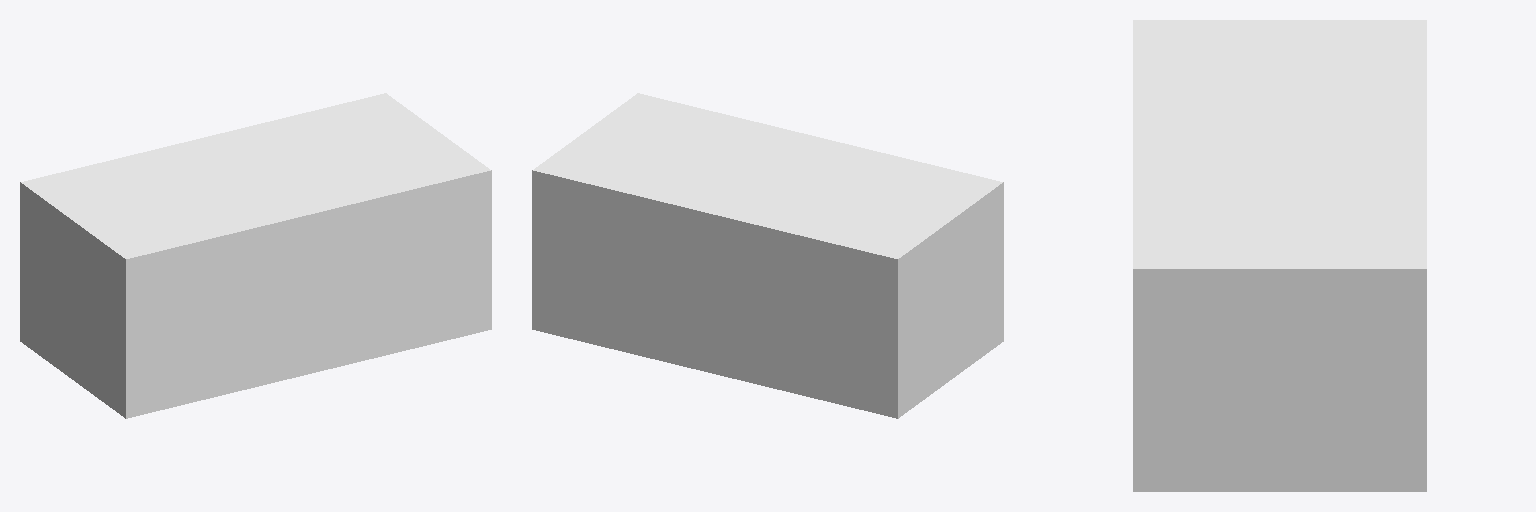
URDF robot description (panda):
<?xml version="1.0" encoding="utf-8"?>
<!-- =================================================================================== -->
<!-- |    This document was autogenerated by xacro from assembly_env.urdf.xacro        | -->
<!-- |    EDITING THIS FILE BY HAND IS NOT RECOMMENDED                                 | -->
<!-- =================================================================================== -->
<robot name="panda">
  <!-- box shaped table as base for the 2 Pandas -->
  <link name="base">
    <visual>
      <origin rpy="0 0 0" xyz="1.0 0 0.5"/>
      <geometry>
        <box size="2.4 1.2 1"/>
      </geometry>
      <material name="White">
        <color rgba="1.0 1.0 1.0 1.0"/>
      </material>
    </visual>
    <collision>
      <origin rpy="0 0 0" xyz="1.0 0 0.5"/>
      <geometry>
        <box size="2.4 1.2 1"/>
      </geometry>
    </collision>
  </link>
  <joint name="panda_left_joint_base" type="fixed">
    <parent link="base"/>
    <child link="panda_left_link0"/>
    <origin rpy="0 0 0" xyz="0 0.3 1"/>
  </joint>
  <link name="panda_left_link0">
    <visual>
      <geometry>
        <mesh filename="package://franka_description/meshes/visual/link0.dae"/>
      </geometry>
    </visual>
    <collision>
      <geometry>
        <mesh filename="package://franka_description/meshes/collision/link0.stl"/>
      </geometry>
    </collision>
  </link>
  <link name="panda_left_link1">
    <visual>
      <geometry>
        <mesh filename="package://franka_description/meshes/visual/link1.dae"/>
      </geometry>
    </visual>
    <collision>
      <geometry>
        <mesh filename="package://franka_description/meshes/collision/link1.stl"/>
      </geometry>
    </collision>
  </link>
  <joint name="panda_left_joint1" type="revolute">
    <safety_controller k_position="100.0" k_velocity="40.0" soft_lower_limit="-2.8973" soft_upper_limit="2.8973"/>
    <origin rpy="0 0 0" xyz="0 0 0.333"/>
    <parent link="panda_left_link0"/>
    <child link="panda_left_link1"/>
    <axis xyz="0 0 1"/>
    <limit effort="87" lower="-2.8973" upper="2.8973" velocity="2.1750"/>
  </joint>
  <link name="panda_left_link2">
    <visual>
      <geometry>
        <mesh filename="package://franka_description/meshes/visual/link2.dae"/>
      </geometry>
    </visual>
    <collision>
      <geometry>
        <mesh filename="package://franka_description/meshes/collision/link2.stl"/>
      </geometry>
    </collision>
  </link>
  <joint name="panda_left_joint2" type="revolute">
    <safety_controller k_position="100.0" k_velocity="40.0" soft_lower_limit="-1.7628" soft_upper_limit="1.7628"/>
    <origin rpy="-1.57079632679 0 0" xyz="0 0 0"/>
    <parent link="panda_left_link1"/>
    <child link="panda_left_link2"/>
    <axis xyz="0 0 1"/>
    <limit effort="87" lower="-1.7628" upper="1.7628" velocity="2.1750"/>
  </joint>
  <link name="panda_left_link3">
    <visual>
      <geometry>
        <mesh filename="package://franka_description/meshes/visual/link3.dae"/>
      </geometry>
    </visual>
    <collision>
      <geometry>
        <mesh filename="package://franka_description/meshes/collision/link3.stl"/>
      </geometry>
    </collision>
  </link>
  <joint name="panda_left_joint3" type="revolute">
    <safety_controller k_position="100.0" k_velocity="40.0" soft_lower_limit="-2.8973" soft_upper_limit="2.8973"/>
    <origin rpy="1.57079632679 0 0" xyz="0 -0.316 0"/>
    <parent link="panda_left_link2"/>
    <child link="panda_left_link3"/>
    <axis xyz="0 0 1"/>
    <limit effort="87" lower="-2.8973" upper="2.8973" velocity="2.1750"/>
  </joint>
  <link name="panda_left_link4">
    <visual>
      <geometry>
        <mesh filename="package://franka_description/meshes/visual/link4.dae"/>
      </geometry>
    </visual>
    <collision>
      <geometry>
        <mesh filename="package://franka_description/meshes/collision/link4.stl"/>
      </geometry>
    </collision>
  </link>
  <joint name="panda_left_joint4" type="revolute">
    <safety_controller k_position="100.0" k_velocity="40.0" soft_lower_limit="-3.0718" soft_upper_limit="-0.0698"/>
    <origin rpy="1.57079632679 0 0" xyz="0.0825 0 0"/>
    <parent link="panda_left_link3"/>
    <child link="panda_left_link4"/>
    <axis xyz="0 0 1"/>
    <limit effort="87" lower="-3.0718" upper="-0.0698" velocity="2.1750"/>
  </joint>
  <link name="panda_left_link5">
    <visual>
      <geometry>
        <mesh filename="package://franka_description/meshes/visual/link5.dae"/>
      </geometry>
    </visual>
    <collision>
      <geometry>
        <mesh filename="package://franka_description/meshes/collision/link5.stl"/>
      </geometry>
    </collision>
  </link>
  <joint name="panda_left_joint5" type="revolute">
    <safety_controller k_position="100.0" k_velocity="40.0" soft_lower_limit="-2.8973" soft_upper_limit="2.8973"/>
    <origin rpy="-1.57079632679 0 0" xyz="-0.0825 0.384 0"/>
    <parent link="panda_left_link4"/>
    <child link="panda_left_link5"/>
    <axis xyz="0 0 1"/>
    <limit effort="12" lower="-2.8973" upper="2.8973" velocity="2.6100"/>
  </joint>
  <link name="panda_left_link6">
    <visual>
      <geometry>
        <mesh filename="package://franka_description/meshes/visual/link6.dae"/>
      </geometry>
    </visual>
    <collision>
      <geometry>
        <mesh filename="package://franka_description/meshes/collision/link6.stl"/>
      </geometry>
    </collision>
  </link>
  <joint name="panda_left_joint6" type="revolute">
    <safety_controller k_position="100.0" k_velocity="40.0" soft_lower_limit="-0.0175" soft_upper_limit="3.7525"/>
    <origin rpy="1.57079632679 0 0" xyz="0 0 0"/>
    <parent link="panda_left_link5"/>
    <child link="panda_left_link6"/>
    <axis xyz="0 0 1"/>
    <limit effort="12" lower="-0.0175" upper="3.7525" velocity="2.6100"/>
  </joint>
  <link name="panda_left_link7">
    <visual>
      <geometry>
        <mesh filename="package://franka_description/meshes/visual/link7.dae"/>
      </geometry>
    </visual>
    <collision>
      <geometry>
        <mesh filename="package://franka_description/meshes/collision/link7.stl"/>
      </geometry>
    </collision>
  </link>
  <joint name="panda_left_joint7" type="revolute">
    <safety_controller k_position="100.0" k_velocity="40.0" soft_lower_limit="-2.8973" soft_upper_limit="2.8973"/>
    <origin rpy="1.57079632679 0 0" xyz="0.088 0 0"/>
    <parent link="panda_left_link6"/>
    <child link="panda_left_link7"/>
    <axis xyz="0 0 1"/>
    <limit effort="12" lower="-2.8973" upper="2.8973" velocity="2.6100"/>
  </joint>
  <link name="panda_left_link8"/>
  <joint name="panda_left_joint8" type="fixed">
    <origin rpy="0 0 0" xyz="0 0 0.107"/>
    <parent link="panda_left_link7"/>
    <child link="panda_left_link8"/>
    <axis xyz="0 0 0"/>
  </joint>
  <joint name="panda_left_hand_joint" type="fixed">
    <parent link="panda_left_link8"/>
    <child link="panda_left_hand"/>
    <origin rpy="0 0 -0.785398163397" xyz="0 0 0"/>
  </joint>
  <link name="panda_left_hand">
    <visual>
      <geometry>
        <mesh filename="package://franka_description/meshes/visual/hand.dae"/>
      </geometry>
    </visual>
    <collision>
      <geometry>
        <mesh filename="package://franka_description/meshes/collision/hand.stl"/>
      </geometry>
    </collision>
  </link>
  <link name="panda_left_leftfinger">
    <visual>
      <geometry>
        <mesh filename="package://franka_description/meshes/visual/finger.dae"/>
      </geometry>
    </visual>
    <collision>
      <geometry>
        <mesh filename="package://franka_description/meshes/collision/finger.stl"/>
      </geometry>
    </collision>
  </link>
  <link name="panda_left_rightfinger">
    <visual>
      <origin rpy="0 0 3.14159265359" xyz="0 0 0"/>
      <geometry>
        <mesh filename="package://franka_description/meshes/visual/finger.dae"/>
      </geometry>
    </visual>
    <collision>
      <origin rpy="0 0 3.14159265359" xyz="0 0 0"/>
      <geometry>
        <mesh filename="package://franka_description/meshes/collision/finger.stl"/>
      </geometry>
    </collision>
  </link>
  <joint name="panda_left_finger_joint1" type="prismatic">
    <parent link="panda_left_hand"/>
    <child link="panda_left_leftfinger"/>
    <origin rpy="0 0 0" xyz="0 0 0.0584"/>
    <axis xyz="0 1 0"/>
    <limit effort="20" lower="0.0" upper="0.04" velocity="0.2"/>
  </joint>
  <joint name="panda_left_finger_joint2" type="prismatic">
    <parent link="panda_left_hand"/>
    <child link="panda_left_rightfinger"/>
    <origin rpy="0 0 0" xyz="0 0 0.0584"/>
    <axis xyz="0 -1 0"/>
    <limit effort="20" lower="0.0" upper="0.04" velocity="0.2"/>
    <mimic joint="panda_left_finger_joint1"/>
  </joint>
  <joint name="panda_right_joint_base" type="fixed">
    <parent link="base"/>
    <child link="panda_right_link0"/>
    <origin rpy="0 0 0" xyz="0 -0.3 1"/>
  </joint>
  <link name="panda_right_link0">
    <visual>
      <geometry>
        <mesh filename="package://franka_description/meshes/visual/link0.dae"/>
      </geometry>
    </visual>
    <collision>
      <geometry>
        <mesh filename="package://franka_description/meshes/collision/link0.stl"/>
      </geometry>
    </collision>
  </link>
  <link name="panda_right_link1">
    <visual>
      <geometry>
        <mesh filename="package://franka_description/meshes/visual/link1.dae"/>
      </geometry>
    </visual>
    <collision>
      <geometry>
        <mesh filename="package://franka_description/meshes/collision/link1.stl"/>
      </geometry>
    </collision>
  </link>
  <joint name="panda_right_joint1" type="revolute">
    <safety_controller k_position="100.0" k_velocity="40.0" soft_lower_limit="-2.8973" soft_upper_limit="2.8973"/>
    <origin rpy="0 0 0" xyz="0 0 0.333"/>
    <parent link="panda_right_link0"/>
    <child link="panda_right_link1"/>
    <axis xyz="0 0 1"/>
    <limit effort="87" lower="-2.8973" upper="2.8973" velocity="2.1750"/>
  </joint>
  <link name="panda_right_link2">
    <visual>
      <geometry>
        <mesh filename="package://franka_description/meshes/visual/link2.dae"/>
      </geometry>
    </visual>
    <collision>
      <geometry>
        <mesh filename="package://franka_description/meshes/collision/link2.stl"/>
      </geometry>
    </collision>
  </link>
  <joint name="panda_right_joint2" type="revolute">
    <safety_controller k_position="100.0" k_velocity="40.0" soft_lower_limit="-1.7628" soft_upper_limit="1.7628"/>
    <origin rpy="-1.57079632679 0 0" xyz="0 0 0"/>
    <parent link="panda_right_link1"/>
    <child link="panda_right_link2"/>
    <axis xyz="0 0 1"/>
    <limit effort="87" lower="-1.7628" upper="1.7628" velocity="2.1750"/>
  </joint>
  <link name="panda_right_link3">
    <visual>
      <geometry>
        <mesh filename="package://franka_description/meshes/visual/link3.dae"/>
      </geometry>
    </visual>
    <collision>
      <geometry>
        <mesh filename="package://franka_description/meshes/collision/link3.stl"/>
      </geometry>
    </collision>
  </link>
  <joint name="panda_right_joint3" type="revolute">
    <safety_controller k_position="100.0" k_velocity="40.0" soft_lower_limit="-2.8973" soft_upper_limit="2.8973"/>
    <origin rpy="1.57079632679 0 0" xyz="0 -0.316 0"/>
    <parent link="panda_right_link2"/>
    <child link="panda_right_link3"/>
    <axis xyz="0 0 1"/>
    <limit effort="87" lower="-2.8973" upper="2.8973" velocity="2.1750"/>
  </joint>
  <link name="panda_right_link4">
    <visual>
      <geometry>
        <mesh filename="package://franka_description/meshes/visual/link4.dae"/>
      </geometry>
    </visual>
    <collision>
      <geometry>
        <mesh filename="package://franka_description/meshes/collision/link4.stl"/>
      </geometry>
    </collision>
  </link>
  <joint name="panda_right_joint4" type="revolute">
    <safety_controller k_position="100.0" k_velocity="40.0" soft_lower_limit="-3.0718" soft_upper_limit="-0.0698"/>
    <origin rpy="1.57079632679 0 0" xyz="0.0825 0 0"/>
    <parent link="panda_right_link3"/>
    <child link="panda_right_link4"/>
    <axis xyz="0 0 1"/>
    <limit effort="87" lower="-3.0718" upper="-0.0698" velocity="2.1750"/>
  </joint>
  <link name="panda_right_link5">
    <visual>
      <geometry>
        <mesh filename="package://franka_description/meshes/visual/link5.dae"/>
      </geometry>
    </visual>
    <collision>
      <geometry>
        <mesh filename="package://franka_description/meshes/collision/link5.stl"/>
      </geometry>
    </collision>
  </link>
  <joint name="panda_right_joint5" type="revolute">
    <safety_controller k_position="100.0" k_velocity="40.0" soft_lower_limit="-2.8973" soft_upper_limit="2.8973"/>
    <origin rpy="-1.57079632679 0 0" xyz="-0.0825 0.384 0"/>
    <parent link="panda_right_link4"/>
    <child link="panda_right_link5"/>
    <axis xyz="0 0 1"/>
    <limit effort="12" lower="-2.8973" upper="2.8973" velocity="2.6100"/>
  </joint>
  <link name="panda_right_link6">
    <visual>
      <geometry>
        <mesh filename="package://franka_description/meshes/visual/link6.dae"/>
      </geometry>
    </visual>
    <collision>
      <geometry>
        <mesh filename="package://franka_description/meshes/collision/link6.stl"/>
      </geometry>
    </collision>
  </link>
  <joint name="panda_right_joint6" type="revolute">
    <safety_controller k_position="100.0" k_velocity="40.0" soft_lower_limit="-0.0175" soft_upper_limit="3.7525"/>
    <origin rpy="1.57079632679 0 0" xyz="0 0 0"/>
    <parent link="panda_right_link5"/>
    <child link="panda_right_link6"/>
    <axis xyz="0 0 1"/>
    <limit effort="12" lower="-0.0175" upper="3.7525" velocity="2.6100"/>
  </joint>
  <link name="panda_right_link7">
    <visual>
      <geometry>
        <mesh filename="package://franka_description/meshes/visual/link7.dae"/>
      </geometry>
    </visual>
    <collision>
      <geometry>
        <mesh filename="package://franka_description/meshes/collision/link7.stl"/>
      </geometry>
    </collision>
  </link>
  <joint name="panda_right_joint7" type="revolute">
    <safety_controller k_position="100.0" k_velocity="40.0" soft_lower_limit="-2.8973" soft_upper_limit="2.8973"/>
    <origin rpy="1.57079632679 0 0" xyz="0.088 0 0"/>
    <parent link="panda_right_link6"/>
    <child link="panda_right_link7"/>
    <axis xyz="0 0 1"/>
    <limit effort="12" lower="-2.8973" upper="2.8973" velocity="2.6100"/>
  </joint>
  <link name="panda_right_link8"/>
  <joint name="panda_right_joint8" type="fixed">
    <origin rpy="0 0 0" xyz="0 0 0.107"/>
    <parent link="panda_right_link7"/>
    <child link="panda_right_link8"/>
    <axis xyz="0 0 0"/>
  </joint>
  <joint name="panda_right_hand_joint" type="fixed">
    <parent link="panda_right_link8"/>
    <child link="panda_right_hand"/>
    <origin rpy="0 0 -0.785398163397" xyz="0 0 0"/>
  </joint>
  <link name="panda_right_hand">
    <visual>
      <geometry>
        <mesh filename="package://franka_description/meshes/visual/hand.dae"/>
      </geometry>
    </visual>
    <collision>
      <geometry>
        <mesh filename="package://franka_description/meshes/collision/hand.stl"/>
      </geometry>
    </collision>
  </link>
  <link name="panda_right_leftfinger">
    <visual>
      <geometry>
        <mesh filename="package://franka_description/meshes/visual/finger.dae"/>
      </geometry>
    </visual>
    <collision>
      <geometry>
        <mesh filename="package://franka_description/meshes/collision/finger.stl"/>
      </geometry>
    </collision>
  </link>
  <link name="panda_right_rightfinger">
    <visual>
      <origin rpy="0 0 3.14159265359" xyz="0 0 0"/>
      <geometry>
        <mesh filename="package://franka_description/meshes/visual/finger.dae"/>
      </geometry>
    </visual>
    <collision>
      <origin rpy="0 0 3.14159265359" xyz="0 0 0"/>
      <geometry>
        <mesh filename="package://franka_description/meshes/collision/finger.stl"/>
      </geometry>
    </collision>
  </link>
  <joint name="panda_right_finger_joint1" type="prismatic">
    <parent link="panda_right_hand"/>
    <child link="panda_right_leftfinger"/>
    <origin rpy="0 0 0" xyz="0 0 0.0584"/>
    <axis xyz="0 1 0"/>
    <limit effort="20" lower="0.0" upper="0.04" velocity="0.2"/>
  </joint>
  <joint name="panda_right_finger_joint2" type="prismatic">
    <parent link="panda_right_hand"/>
    <child link="panda_right_rightfinger"/>
    <origin rpy="0 0 0" xyz="0 0 0.0584"/>
    <axis xyz="0 -1 0"/>
    <limit effort="20" lower="0.0" upper="0.04" velocity="0.2"/>
    <mimic joint="panda_right_finger_joint1"/>
  </joint>
</robot>

--- Facts derived from the render (not from the file) ---
The picture shows the robot from 3 angles, left to right: view 1: azimuth 30°, elevation 25°; view 2: azimuth 150°, elevation 25°; view 3: azimuth 270°, elevation 25°; orthographic projection.
Robot: panda — 25 links, 24 joints (14 revolute, 4 prismatic, 6 fixed); root link base; default pose: all joints at 0 but 2 set to mid-range because 0 is outside their limits (panda_left_joint4 = -1.57, panda_right_joint4 = -1.57).
Links seen in each view (by area): view 1: base; view 2: base; view 3: base.
Link boxes in pixels (bbox=[...]): base: bbox=[20, 93, 491, 418]; base: bbox=[532, 93, 1003, 418]; base: bbox=[1133, 20, 1426, 491].
Size in the robot's own frame: 2.4 by 1.2 by 1 metres.
Meshes: 10 distinct files referenced, 0 mesh visuals loaded (none loaded); not drawn: 22 (reference not matched to a file when rendering).